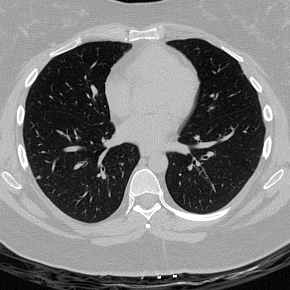nodule: (37, 175, 41, 179)
